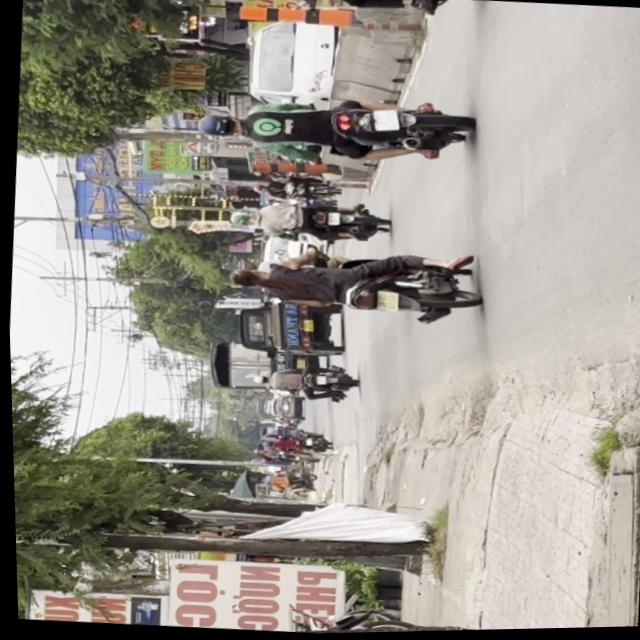helmet: (191, 112, 239, 140)
licenseplate: (187, 82, 474, 172), (219, 238, 481, 332)
motorcyclist: (225, 267, 268, 291)
nohelmet: (369, 110, 398, 134), (373, 292, 395, 313)
